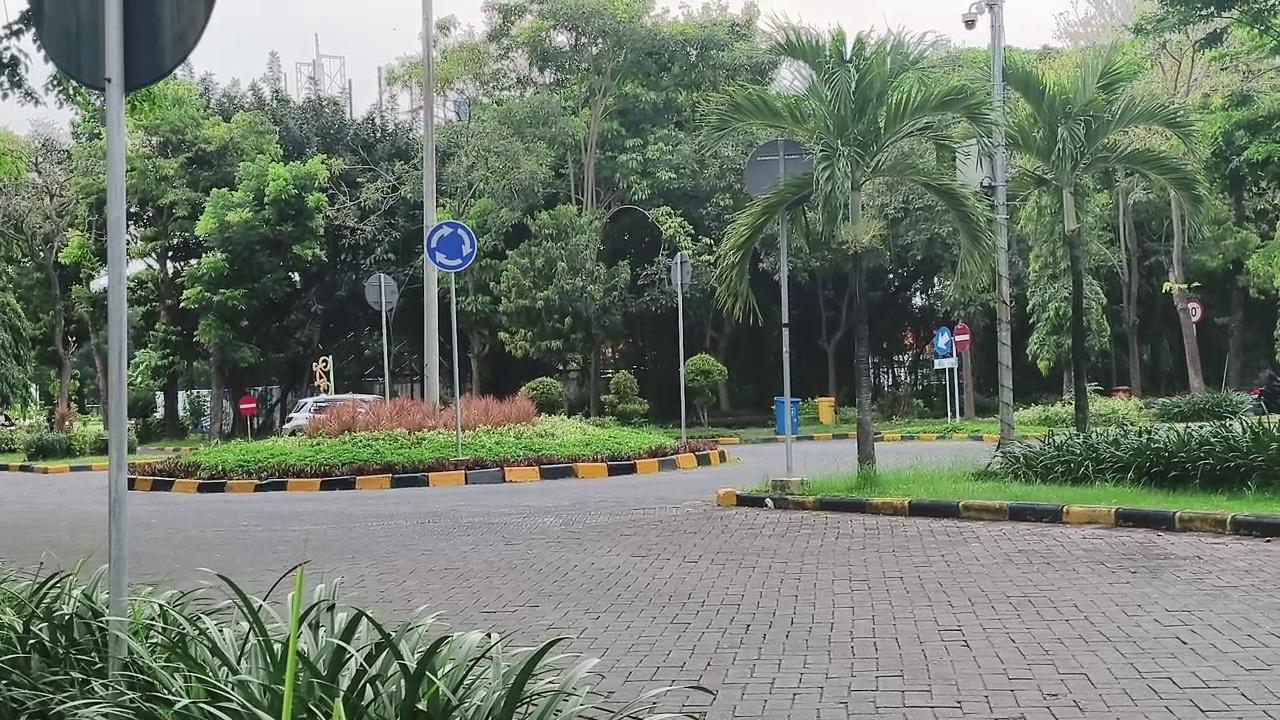Motor: (1252, 369, 1279, 415)
